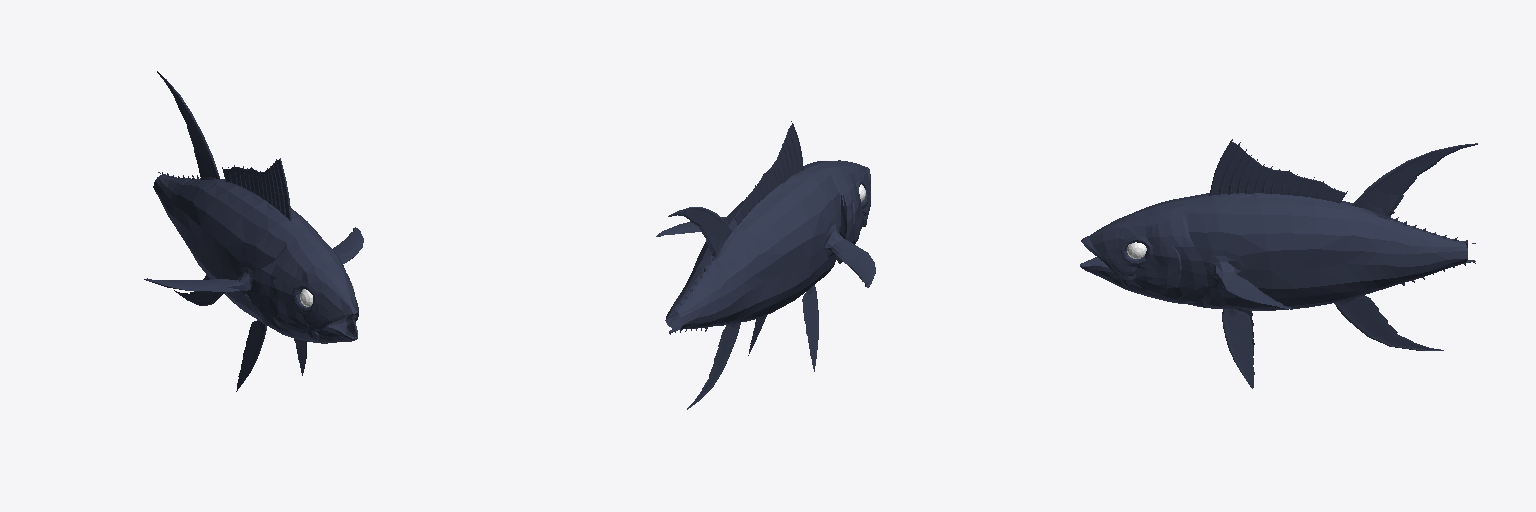
Rendered from cuerpoTuna.obj.
3 renders of one model, left to right at view 1: azimuth 30°, elevation 25°; view 2: azimuth 150°, elevation 25°; view 3: azimuth 270°, elevation 25°, orthographic.
Visible parts, largest first — view 1: cuerpoTuna; view 2: cuerpoTuna; view 3: cuerpoTuna.
Boxes of the visible parts, x1=… form: cuerpoTuna: x1=144, y1=71, x2=363, y2=391; cuerpoTuna: x1=656, y1=121, x2=875, y2=409; cuerpoTuna: x1=1080, y1=139, x2=1477, y2=388.
Size of the model in its own units: 2.43 by 2.58 by 3.98.